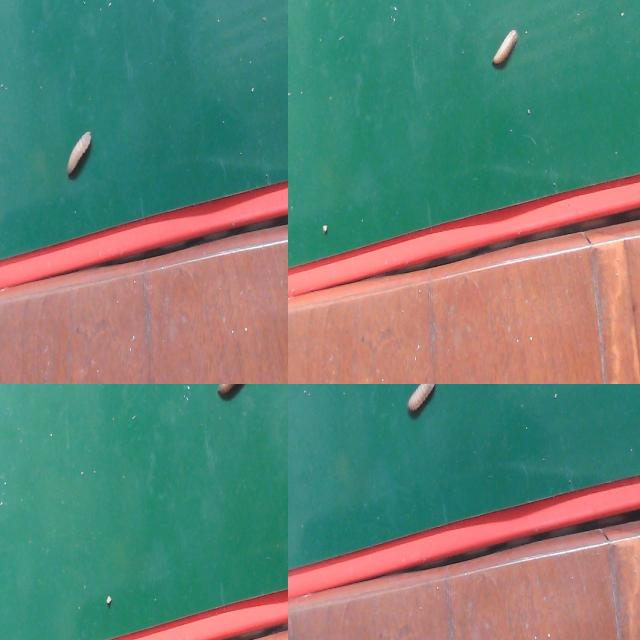Maggot: (64, 130, 92, 180), (492, 30, 520, 72), (405, 384, 436, 418), (216, 384, 248, 403)
